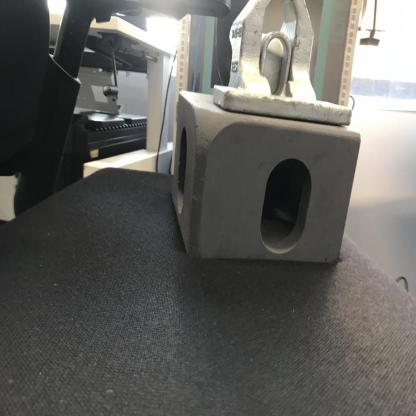CornerCasting: (168, 81, 360, 268)
Twistlock: (207, 0, 366, 125)
